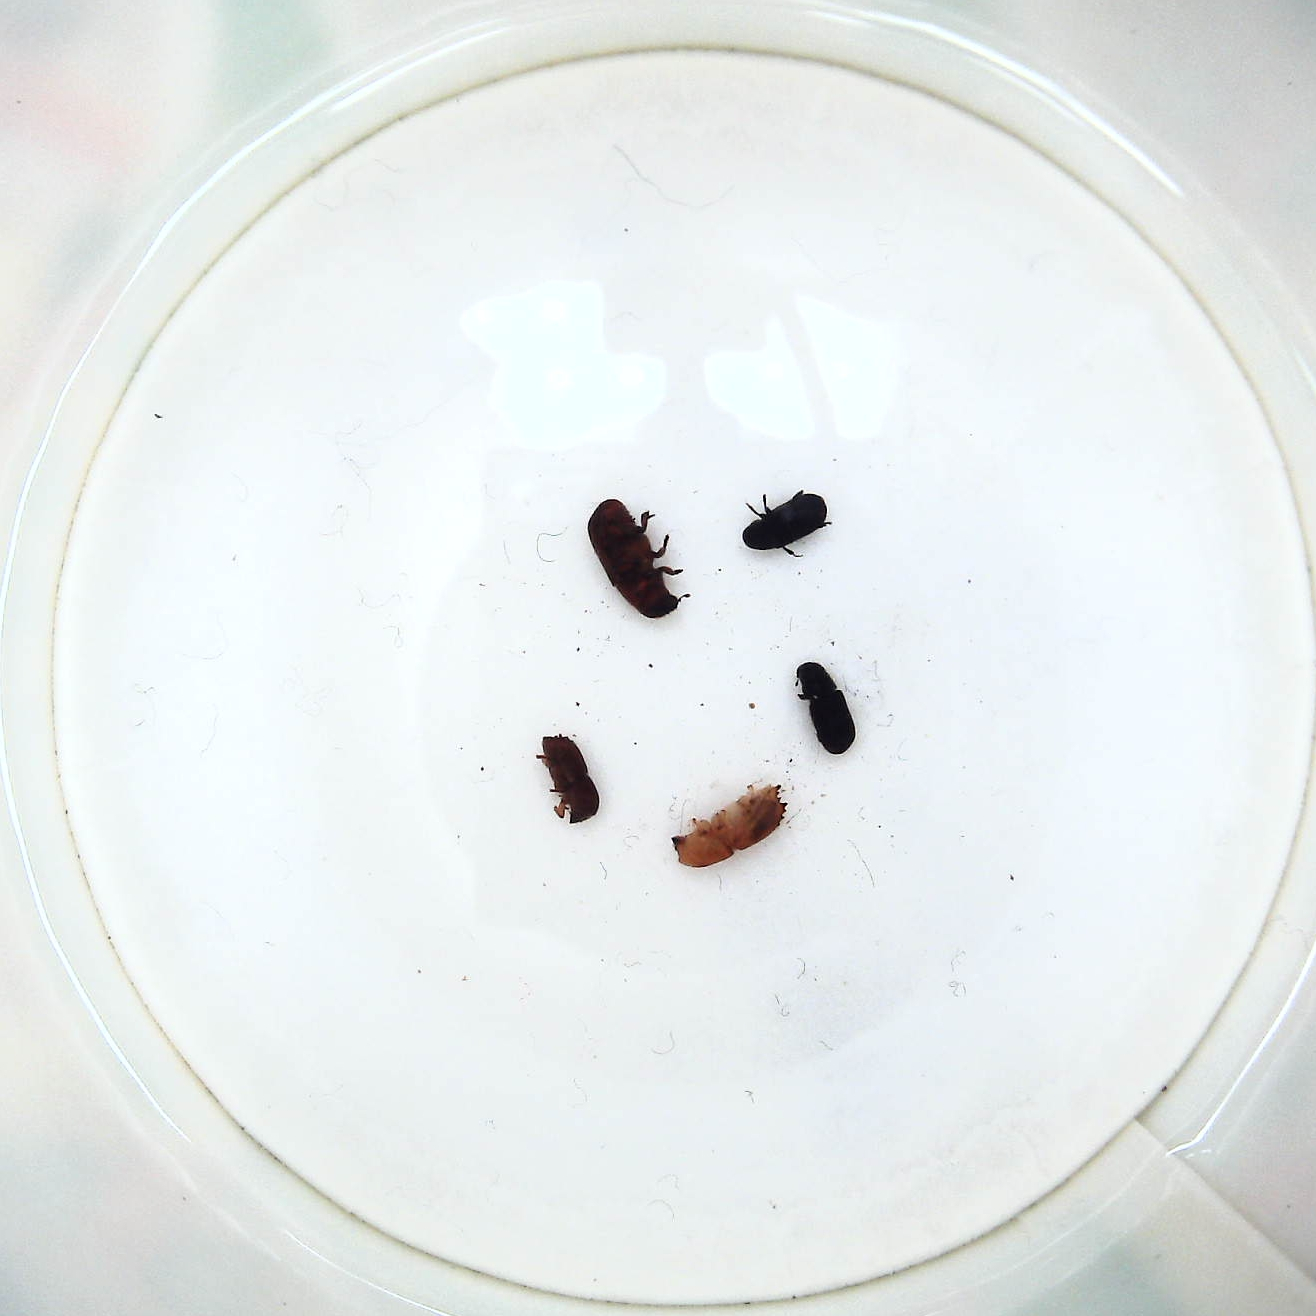Boerner: (668, 780, 795, 873)
Leconte: (580, 497, 691, 621)
armandi: (791, 658, 853, 758)
coleoptera: (741, 489, 839, 560)
linnaeus: (536, 732, 603, 828)
